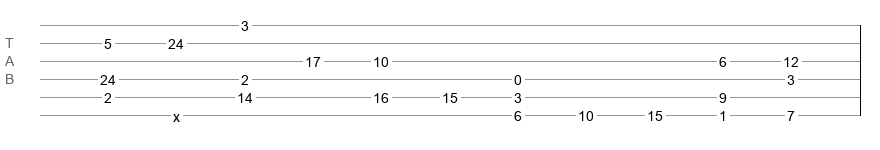0: (514, 72, 522, 82)
1: (719, 108, 727, 118)
10: (373, 54, 389, 64), (578, 108, 594, 118)
12: (783, 54, 799, 64)
14: (237, 90, 253, 100)
15: (442, 90, 458, 100), (647, 108, 663, 118)
16: (373, 90, 389, 100)
17: (305, 54, 321, 64)
2: (104, 90, 112, 100), (241, 72, 249, 82)
24: (100, 72, 116, 82), (168, 36, 184, 46)
3: (241, 18, 249, 28), (514, 90, 522, 100), (787, 72, 795, 82)
5: (104, 36, 112, 46)
6: (514, 108, 522, 118), (719, 54, 727, 64)
7: (787, 108, 795, 118)
9: (719, 90, 727, 100)
x: (173, 109, 180, 117)
